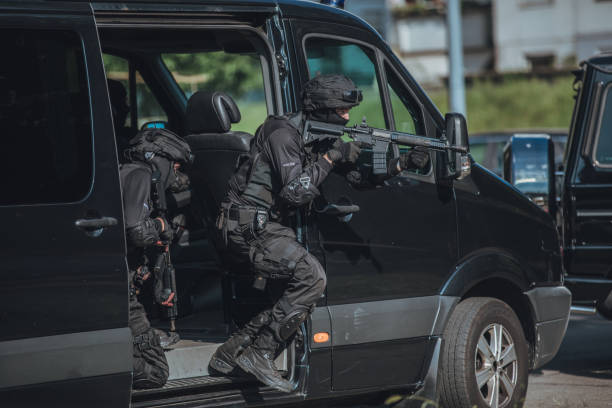gun: (302, 118, 468, 176), (149, 169, 177, 334)
